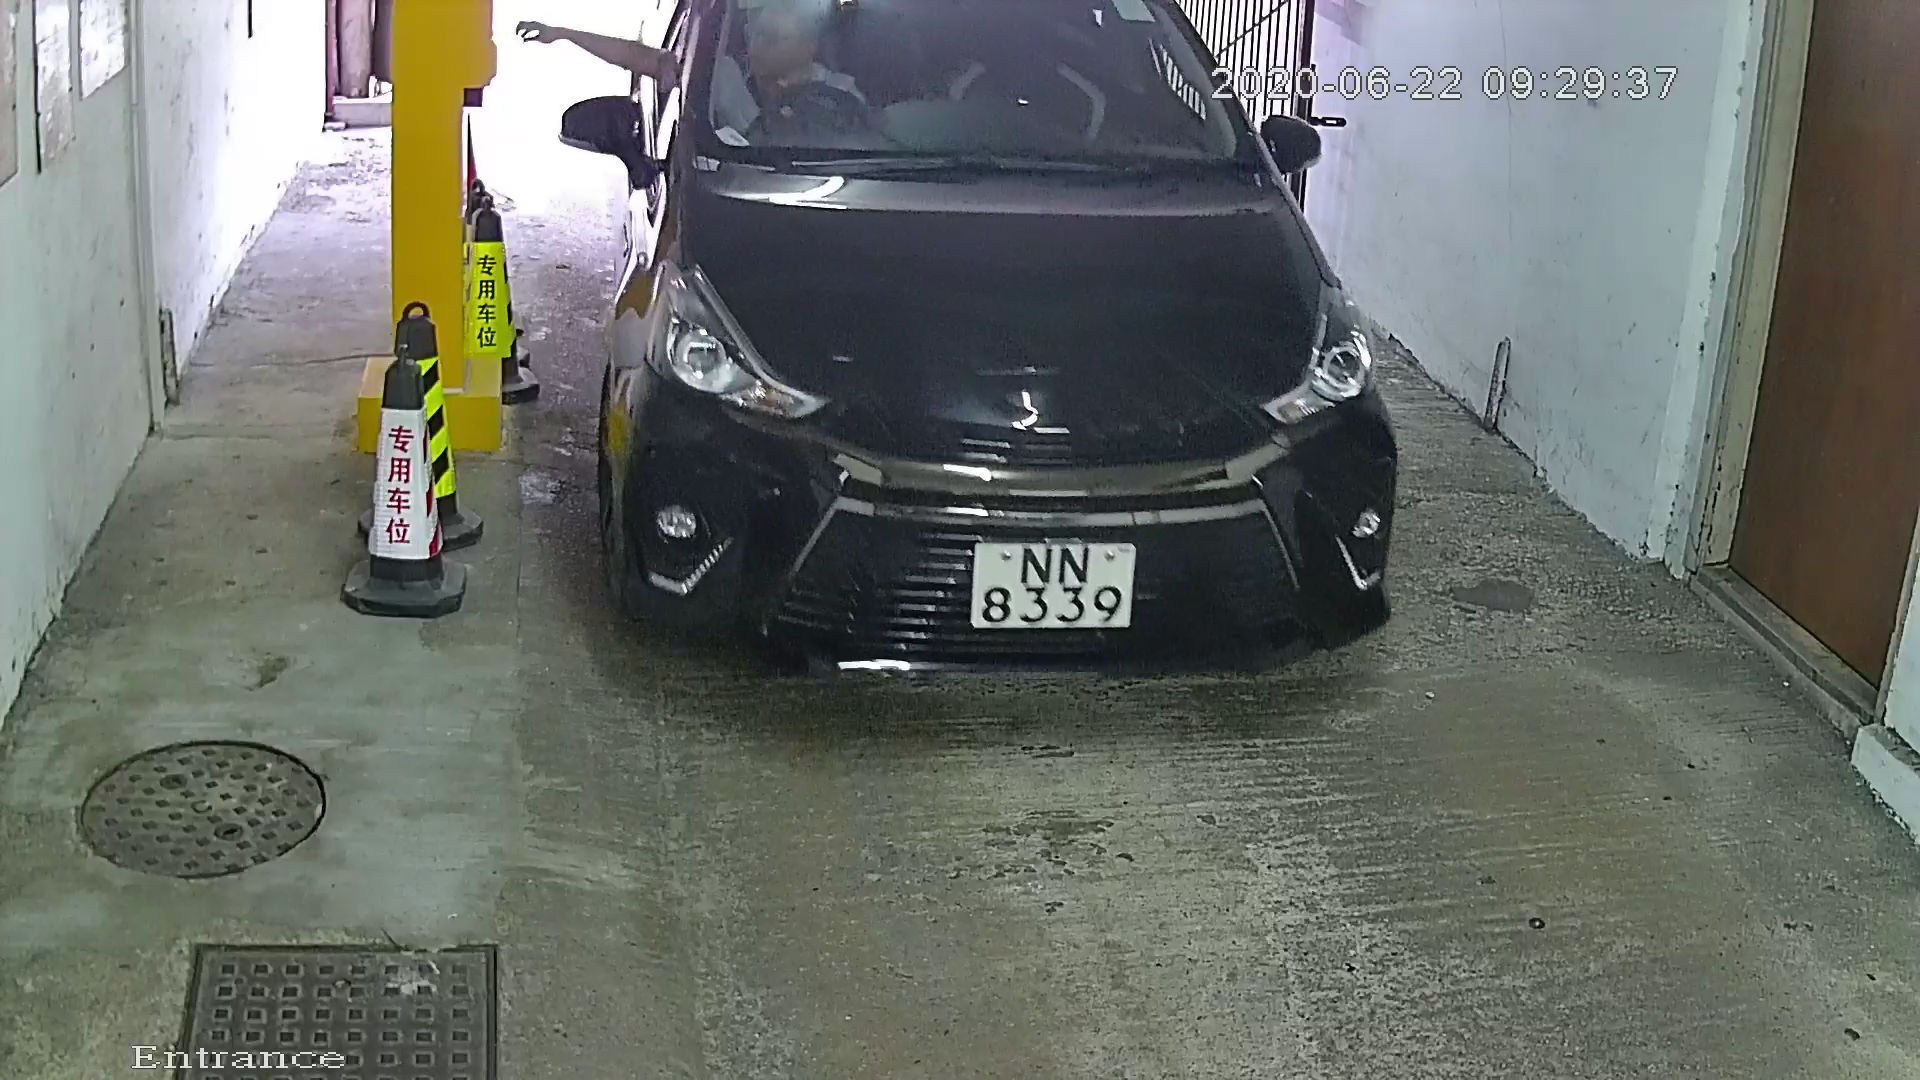privatecar: (527, 3, 1456, 735)
